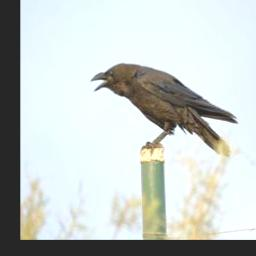Crow: (88, 57, 241, 157)
